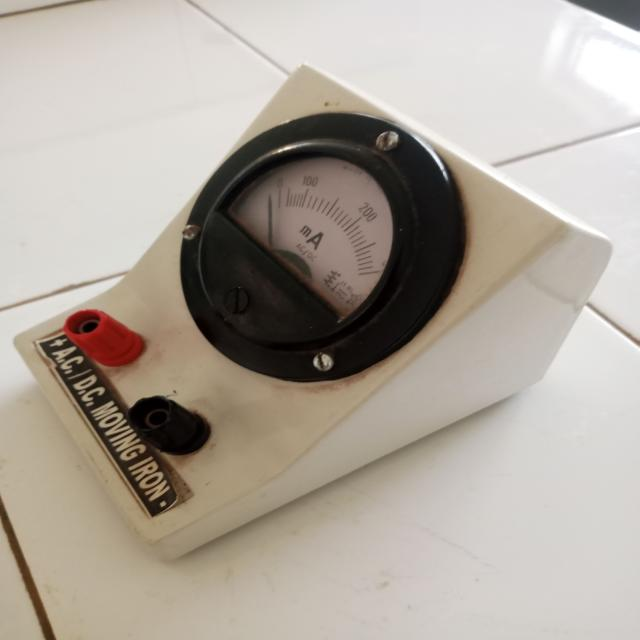Ammeter Analog: (6, 102, 617, 548)
